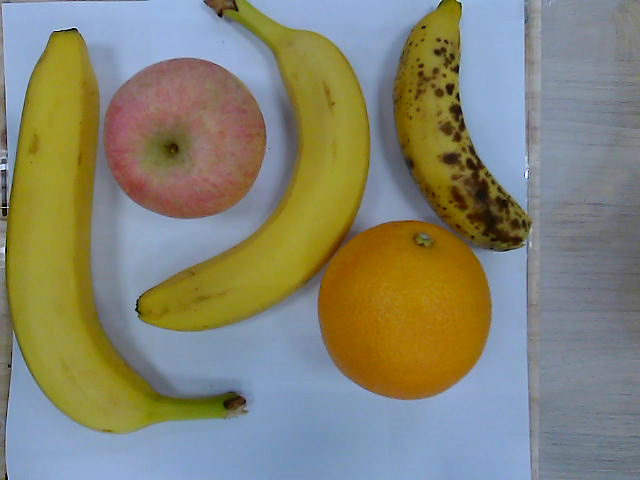fresh_apple: (106, 58, 266, 219)
fresh_banana: (134, 1, 371, 330), (6, 27, 161, 435)
fresh_orange: (316, 219, 492, 402)
rotten_banana: (392, 2, 533, 252)
